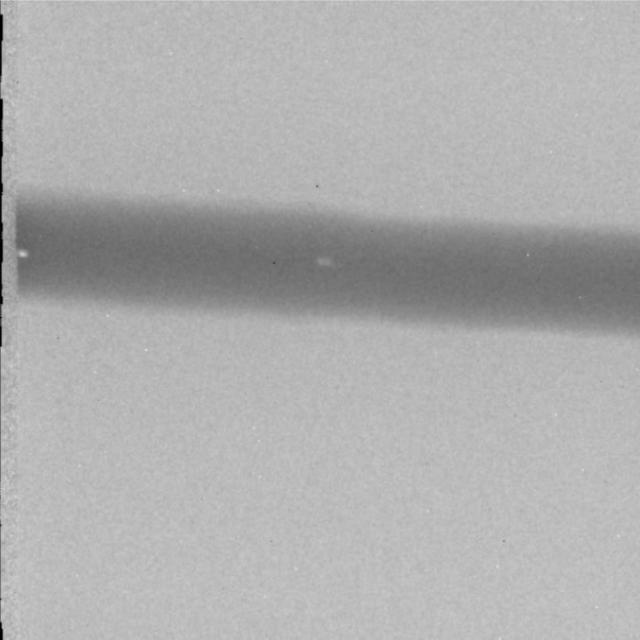air hole: (315, 255, 334, 267), (16, 245, 26, 259)
